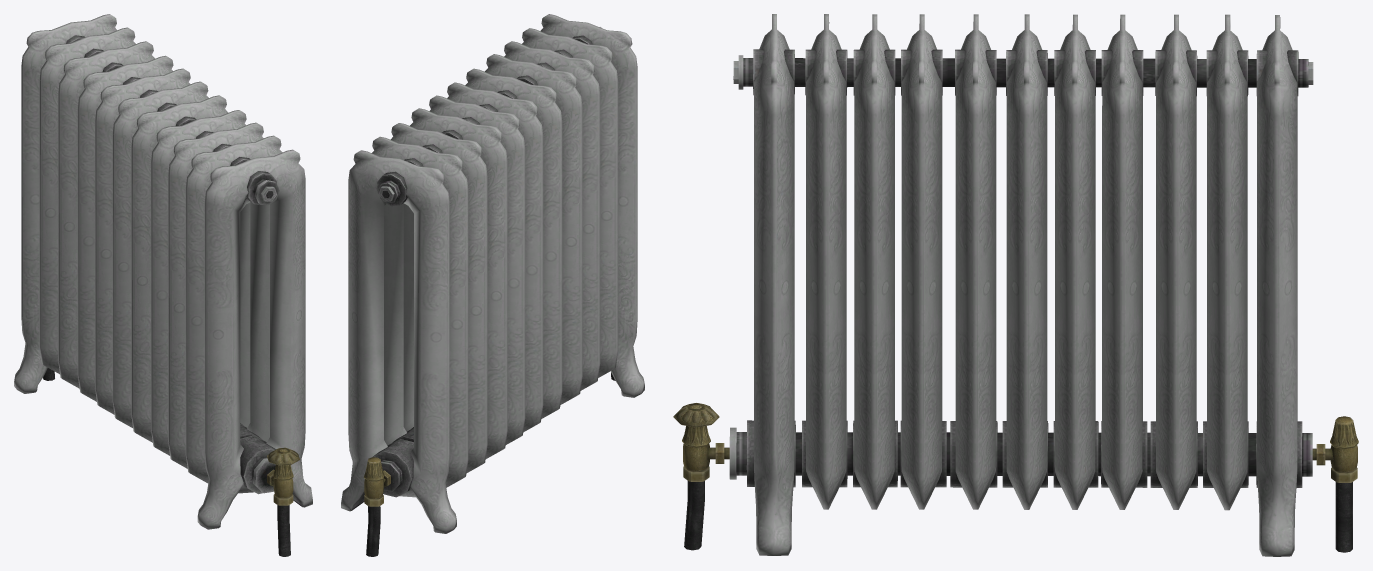
The model's file is Radiator.fbx.
The picture shows the model from 3 angles, left to right: view 1: azimuth 30°, elevation 25°; view 2: azimuth 150°, elevation 25°; view 3: azimuth 270°, elevation 25°; orthographic projection. The views are drawn at different scales.
Visible parts, largest first — view 1: Radiator; view 2: Radiator; view 3: Radiator.
Boxes of the visible parts, x1,y1,x2,y2 form: Radiator: (14, 14, 312, 556); Radiator: (341, 14, 644, 556); Radiator: (673, 14, 1358, 556).
Bounding box in the file's own units: 0.3545 × 1.12 × 1.37.
